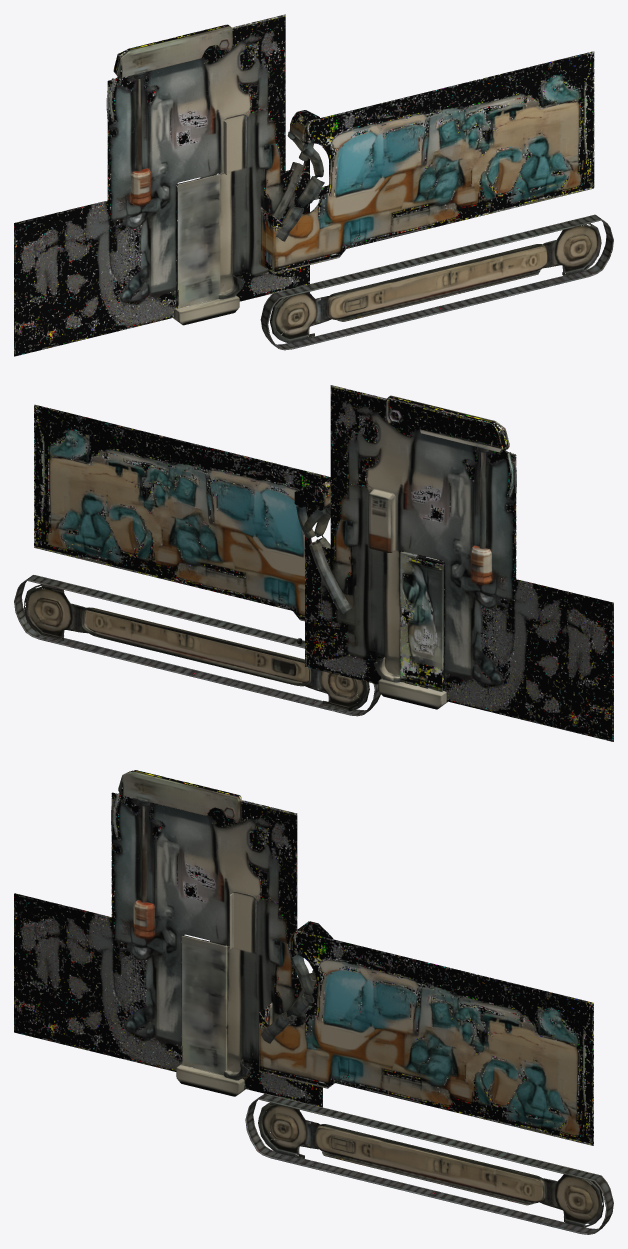
File: burovaya-01.glb
The picture shows the model from 3 angles, top to bottom: view 1: azimuth 30°, elevation 25°; view 2: azimuth 150°, elevation 25°; view 3: azimuth 330°, elevation 25°; orthographic projection. The views are drawn at different scales.
Parts seen in each view (by area): view 1: geometry_0; view 2: geometry_0; view 3: geometry_0.
Boxes of the visible parts, left/top/right/bottom form: geometry_0: left=14, top=14, right=613, bottom=356; geometry_0: left=14, top=385, right=613, bottom=741; geometry_0: left=14, top=770, right=613, bottom=1234.
Size of the model in its own units: 0.9918 by 0.5255 by 0.0635.
1 material, 1 textured.
